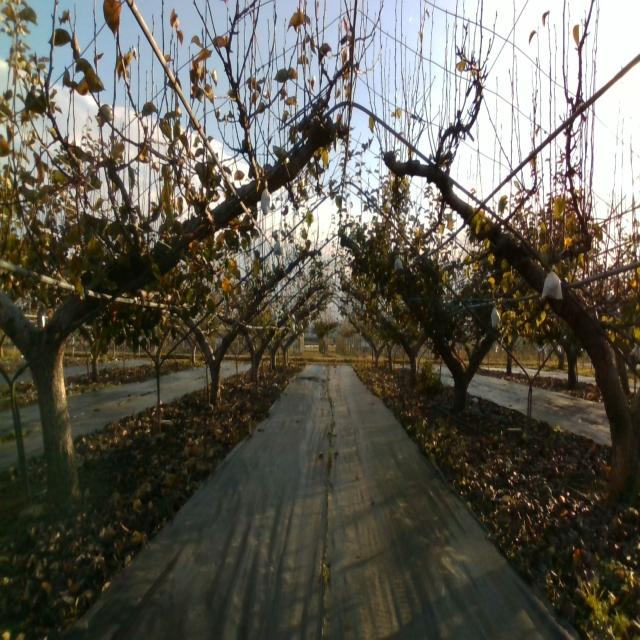pearbags: (541, 264, 563, 300), (260, 180, 273, 216), (273, 237, 285, 256)
